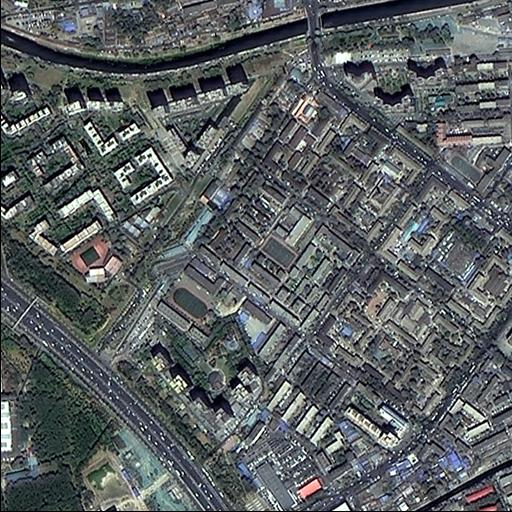school: (65, 227, 146, 296), (159, 271, 248, 332), (258, 196, 316, 273), (443, 141, 512, 197)
